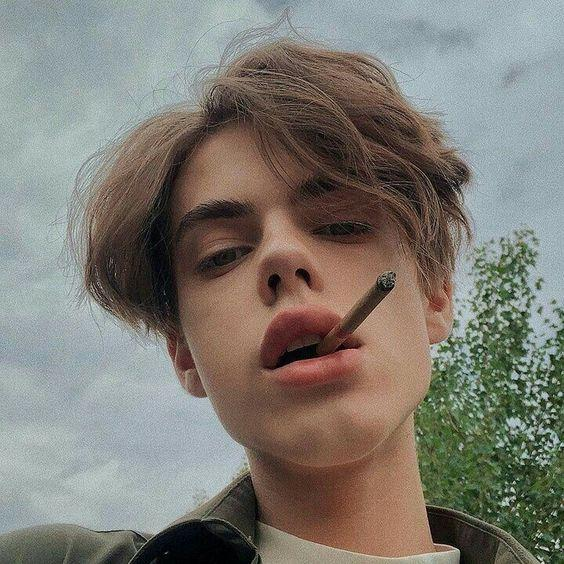cigarette: (315, 270, 397, 356)
